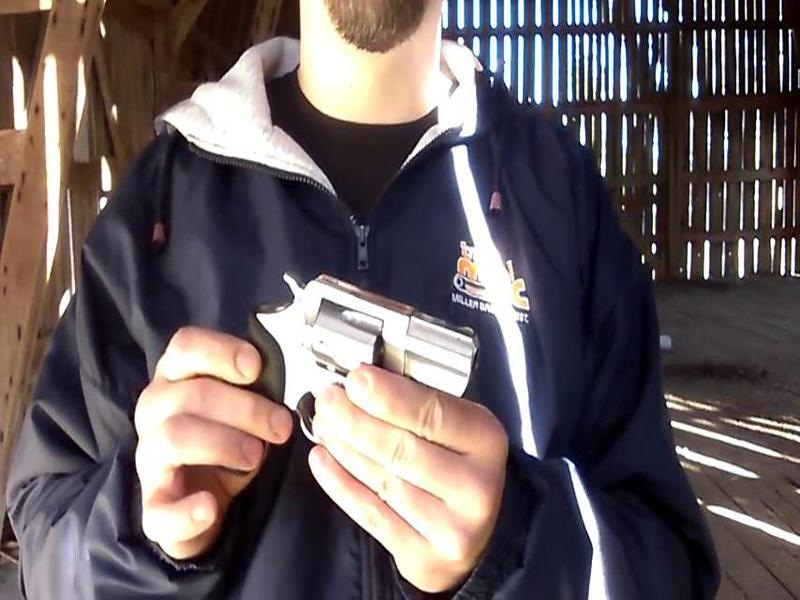Revolver: (177, 234, 526, 475)
